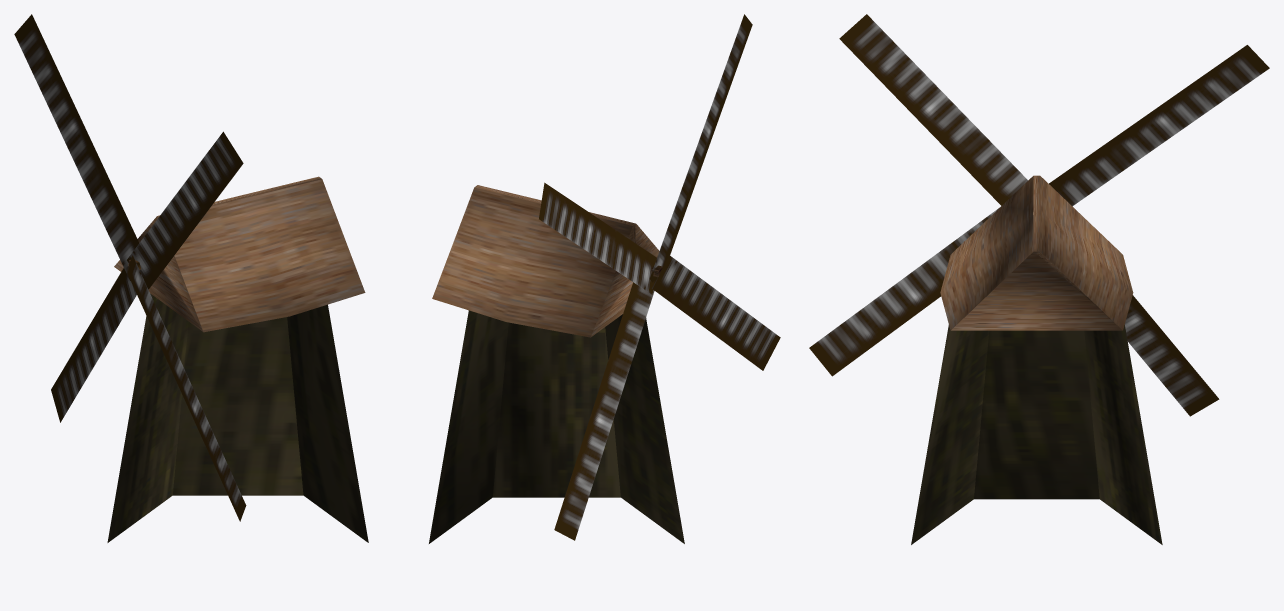
File: Wiatrak.fbx
3 views of the same model, side by side, from view 1: azimuth 30°, elevation 25°; view 2: azimuth 150°, elevation 25°; view 3: azimuth 270°, elevation 25° (orthographic). The views are drawn at different scales.
Parts seen in each view (by area): view 1: Plane.002; view 2: Plane.002; view 3: Plane.002.
Part boxes in pixels (left/top/right/bottom): Plane.002: left=14, top=14, right=368, bottom=542; Plane.002: left=429, top=14, right=780, bottom=543; Plane.002: left=809, top=14, right=1269, bottom=544.
Bounding box in the file's own units: 173 × 378 × 327.
Materials: 1 (1 with a texture image).
